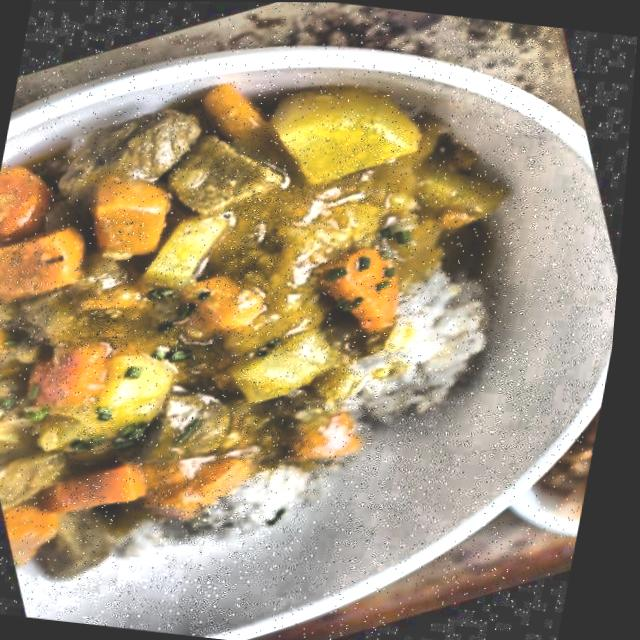Food: (0, 0, 599, 615)
